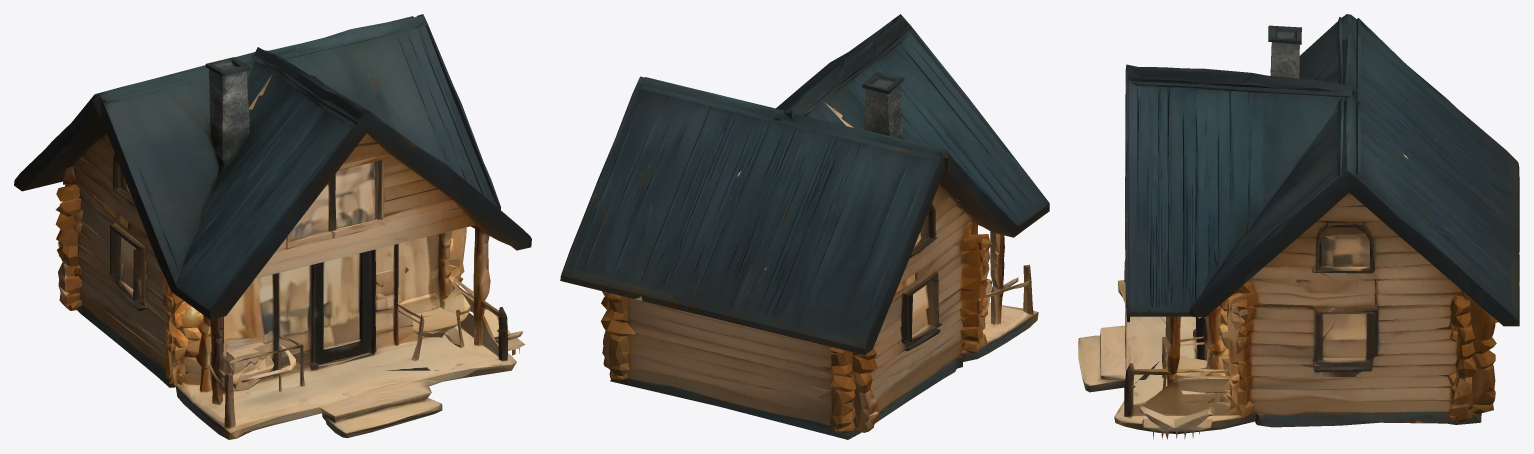
Rendered from cabin.glb.
3 renders of one model, left to right at view 1: azimuth 30°, elevation 25°; view 2: azimuth 150°, elevation 25°; view 3: azimuth 270°, elevation 25°, orthographic. The views are drawn at different scales.
Parts seen in each view (by area): view 1: model; view 2: model; view 3: model.
Part boxes in pixels (<box>): model: <box>14,14,531,439</box>; model: <box>560,14,1049,439</box>; model: <box>1078,14,1519,439</box>.
Bounding box in the file's own units: 1.64 × 1.45 × 1.9.
1 material, 1 textured.
